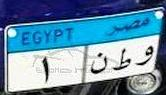1: (38, 53, 53, 82)
Taa: (112, 46, 131, 73)
noon: (90, 51, 108, 76)
waw: (134, 46, 154, 68)
